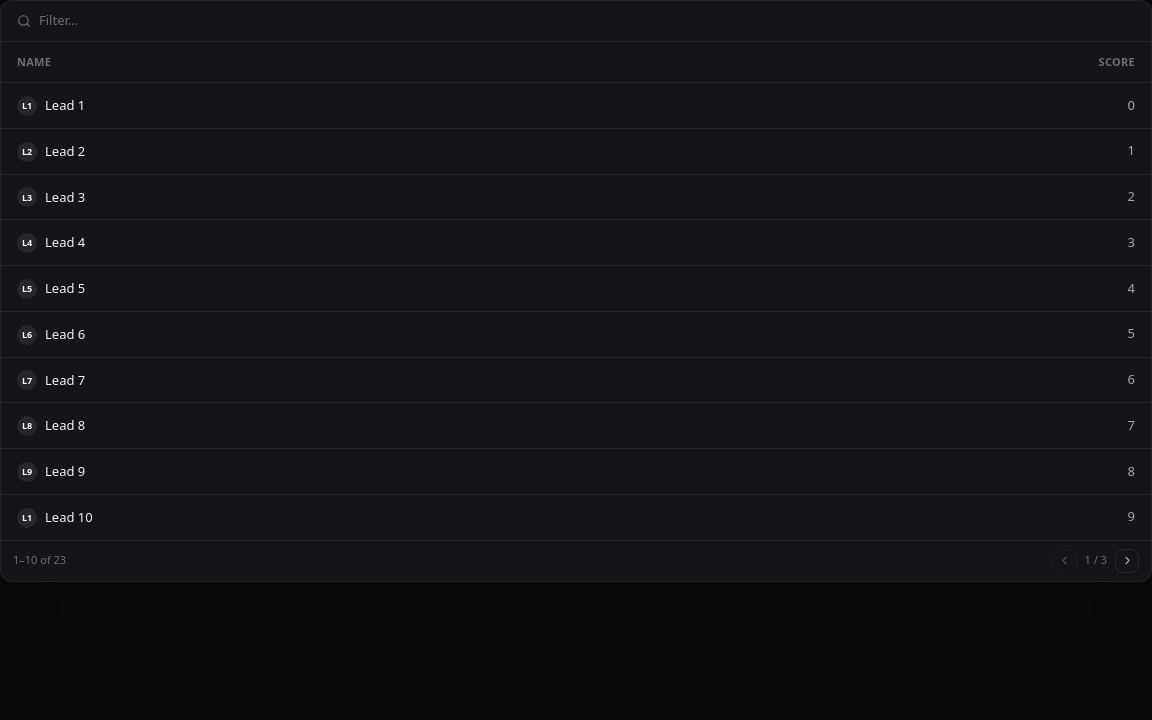
Test: Table sorting (E3) › filters and paginates a large bound table
Expected: the text "Lead 1" is shown, left=45, top=96, right=85, bottom=116
Expected: the text "1–10 of 23" is shown, left=13, top=552, right=66, bottom=569
Step 1. Click the button named "next page" → (1127, 560), box left=1115, top=548, right=1139, bottom=572
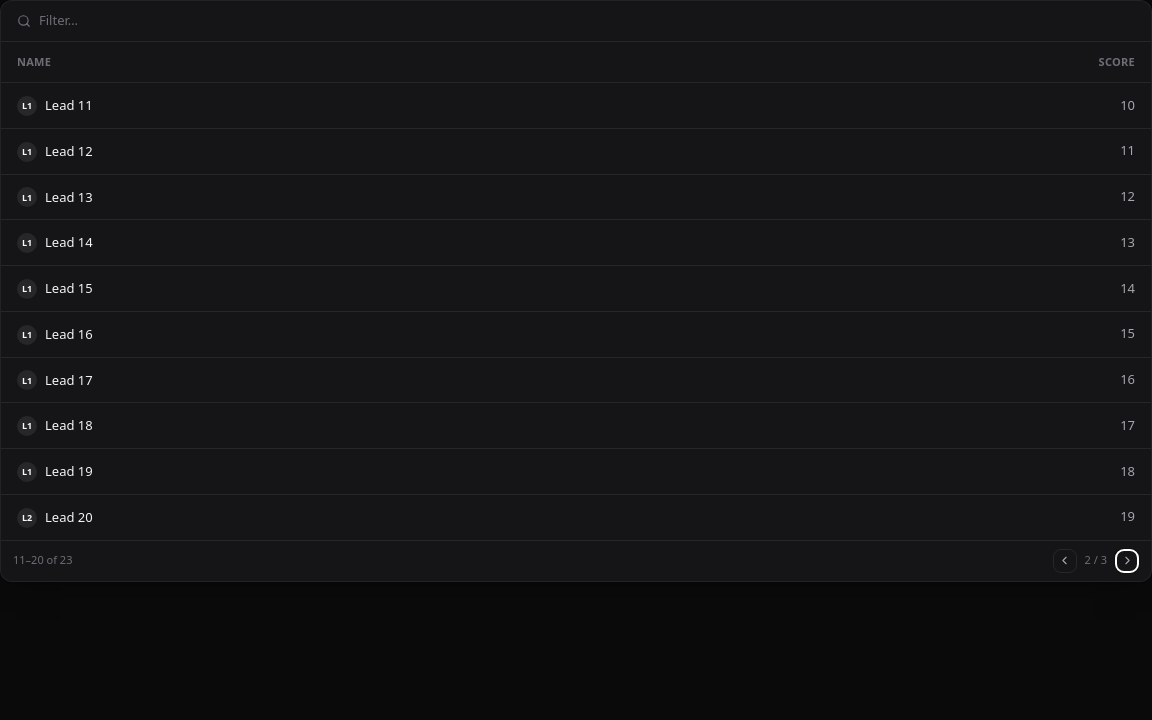
Now the text "11–20 of 23" is shown, box left=13, top=552, right=72, bottom=569
Step 2. Type "zzz-no-match" into the field named "Filter rows" → (587, 21), box left=39, top=11, right=1135, bottom=30
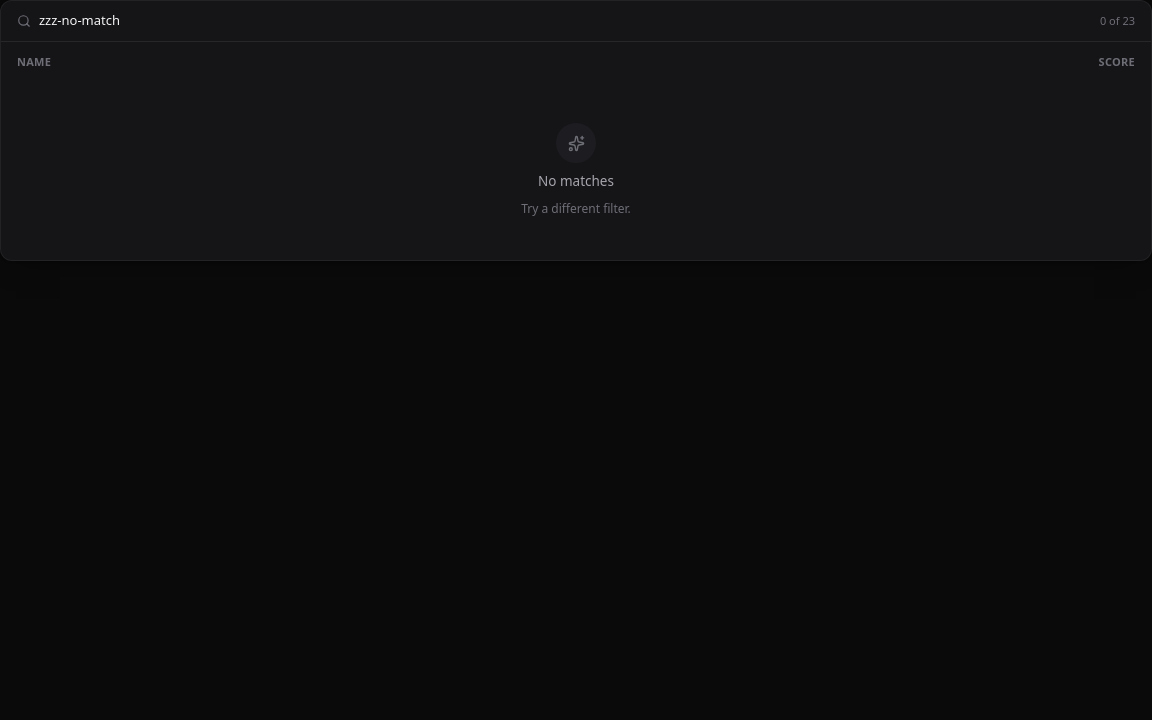
Now the text "No matches" is shown, box left=538, top=171, right=614, bottom=191
